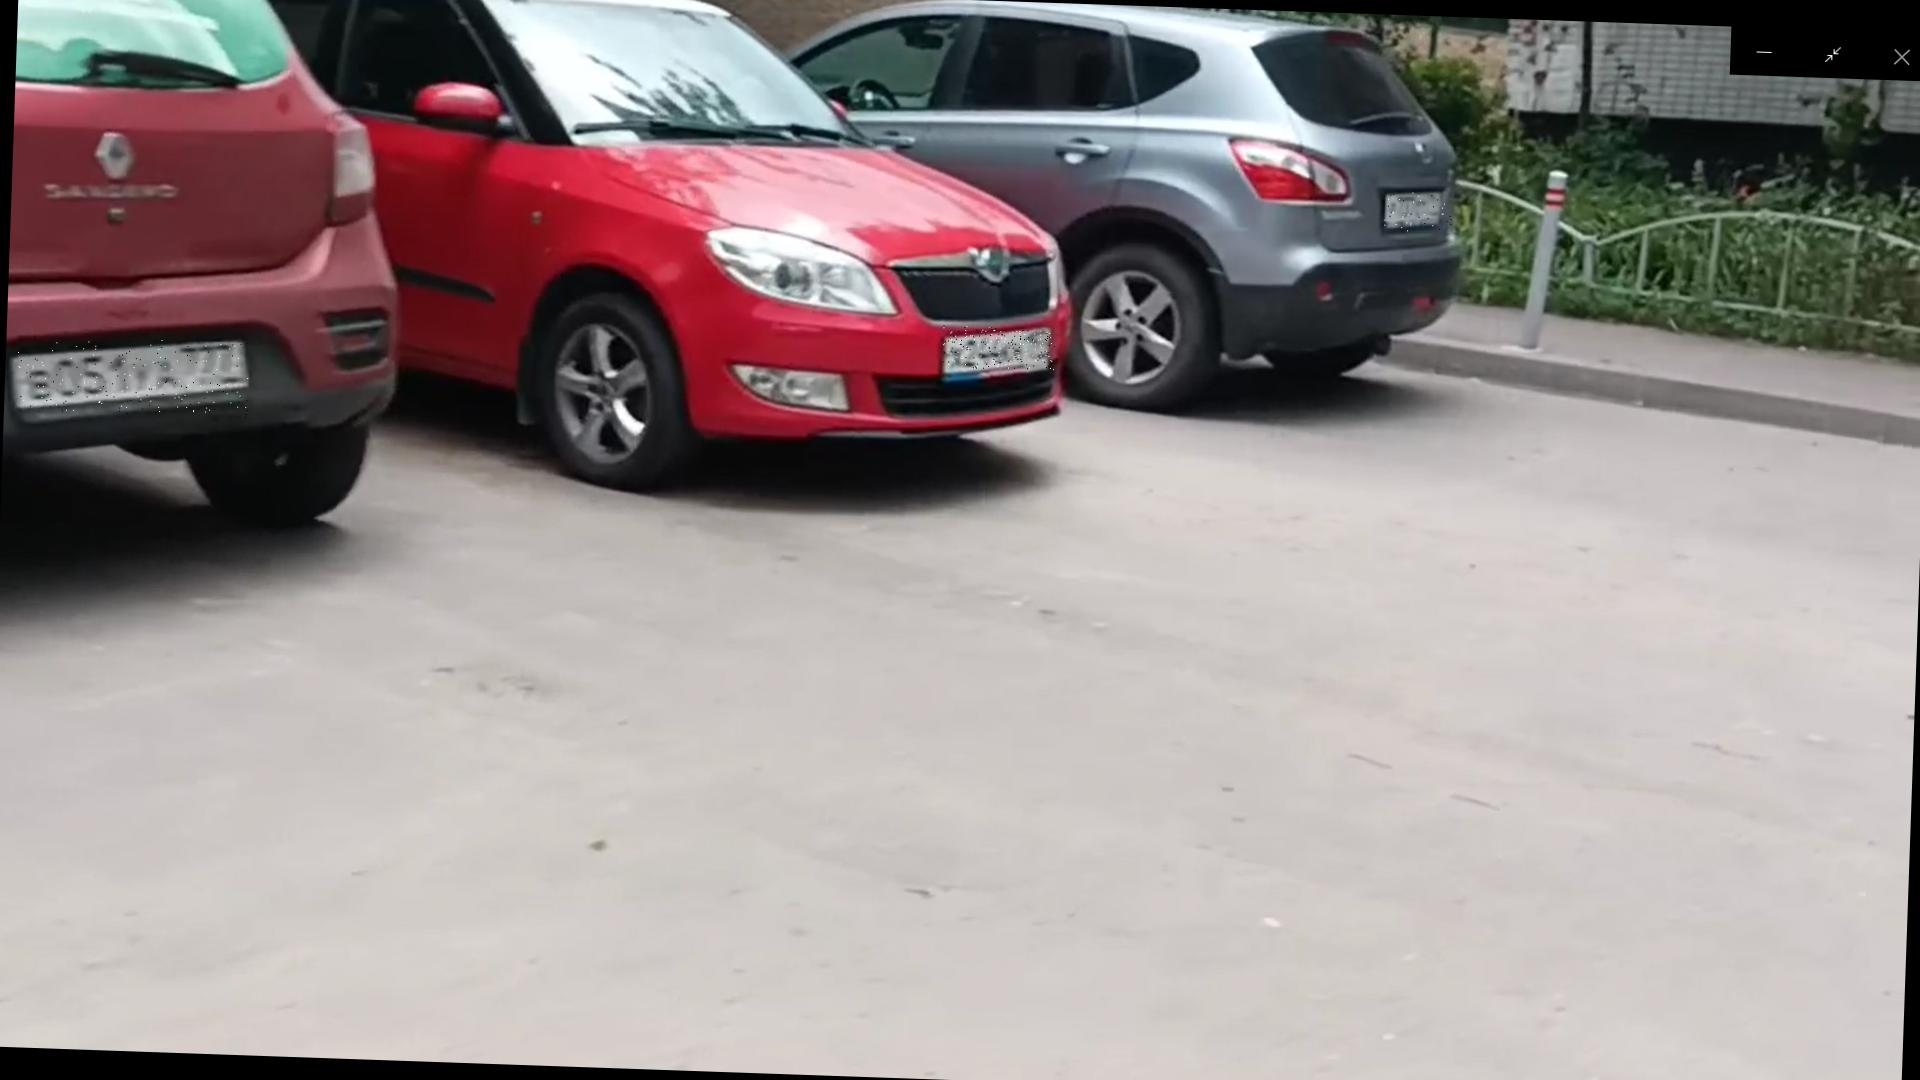plate: (17, 337, 255, 420), (943, 326, 1056, 372), (1386, 192, 1455, 236)
